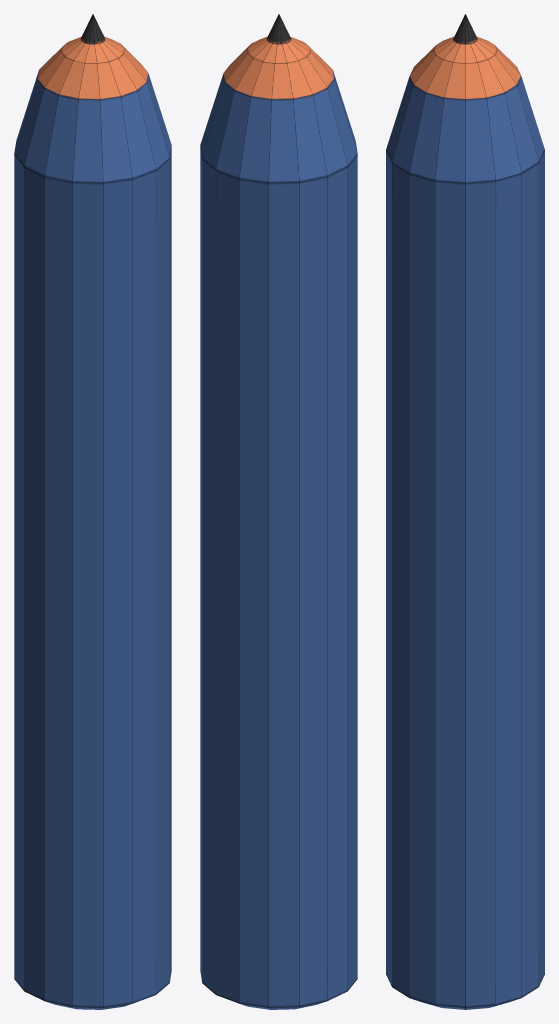
Rendered from pencil blue.fbx.
3 renders of one model, left to right at view 1: azimuth 30°, elevation 25°; view 2: azimuth 150°, elevation 25°; view 3: azimuth 270°, elevation 25°, orthographic.
Visible parts, largest first — view 1: Pencil; view 2: Pencil; view 3: Pencil.
Boxes of the visible parts, x1,y1,x2,y2 form: Pencil: (14, 14, 171, 1009); Pencil: (200, 14, 357, 1009); Pencil: (386, 14, 544, 1009).
Size of the model in its own units: 17.45 by 118 by 17.45.
